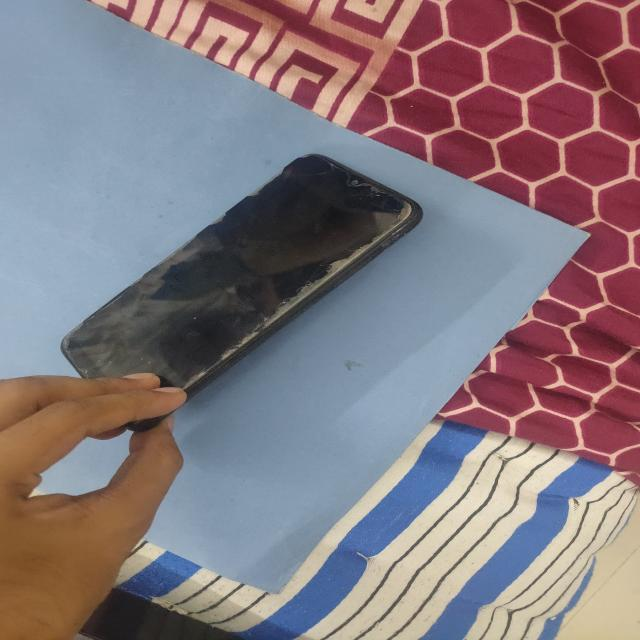Phone: (58, 147, 425, 434)
